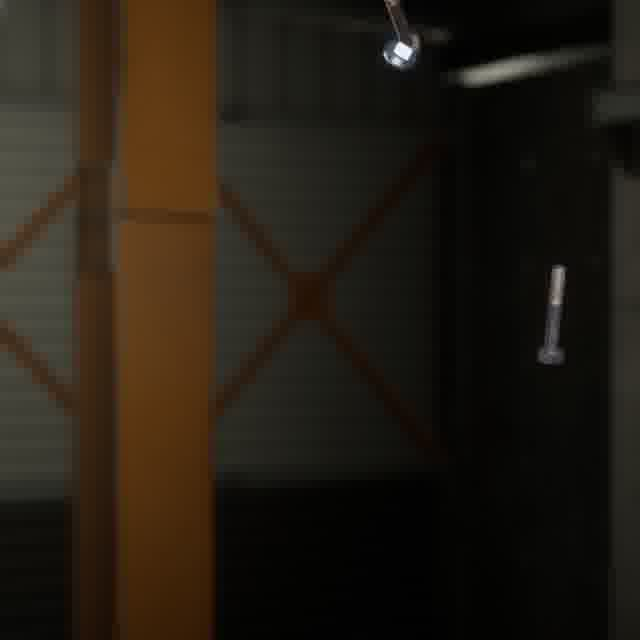bolt: (533, 260, 570, 369), (379, 0, 424, 59)
nut: (378, 36, 421, 74)
